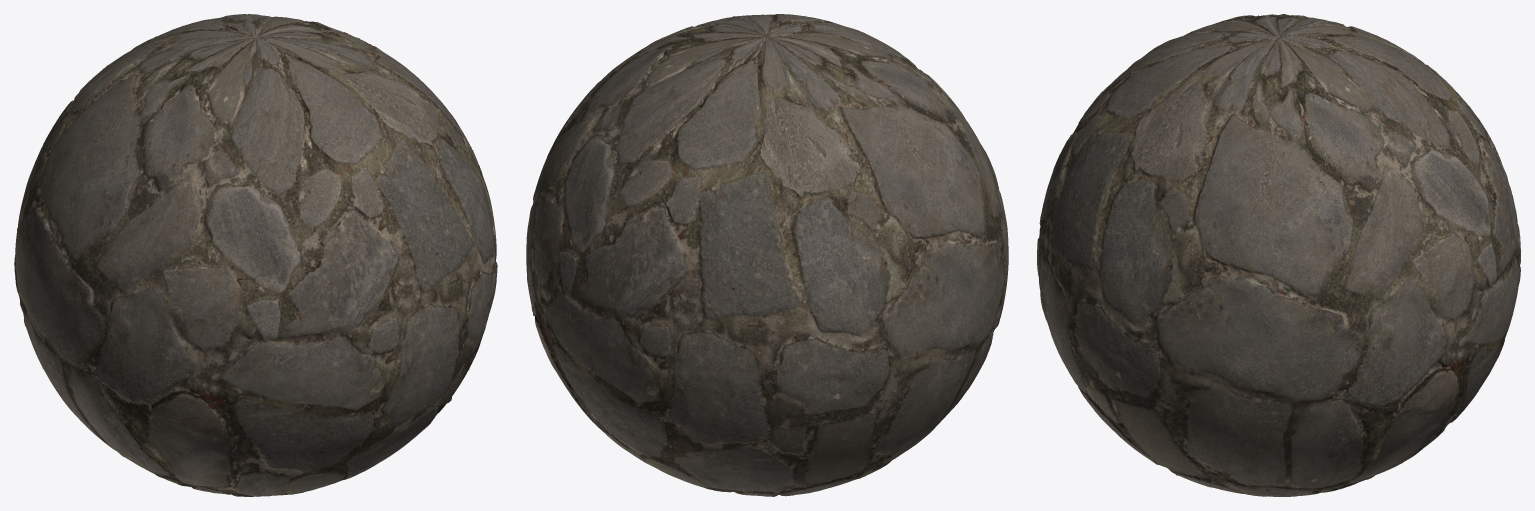
The model's file is grey_stone_path_1k.gltf.
3 renders of one model, left to right at view 1: azimuth 30°, elevation 25°; view 2: azimuth 150°, elevation 25°; view 3: azimuth 270°, elevation 25°, orthographic.
Visible parts, largest first — view 1: sphere_gltf; view 2: sphere_gltf; view 3: sphere_gltf.
Boxes of the visible parts, <box> form: sphere_gltf: <box>14,14,497,496</box>; sphere_gltf: <box>526,14,1008,496</box>; sphere_gltf: <box>1037,14,1520,496</box>.
Bounding box in the file's own units: 1.81 × 1.82 × 1.82.
